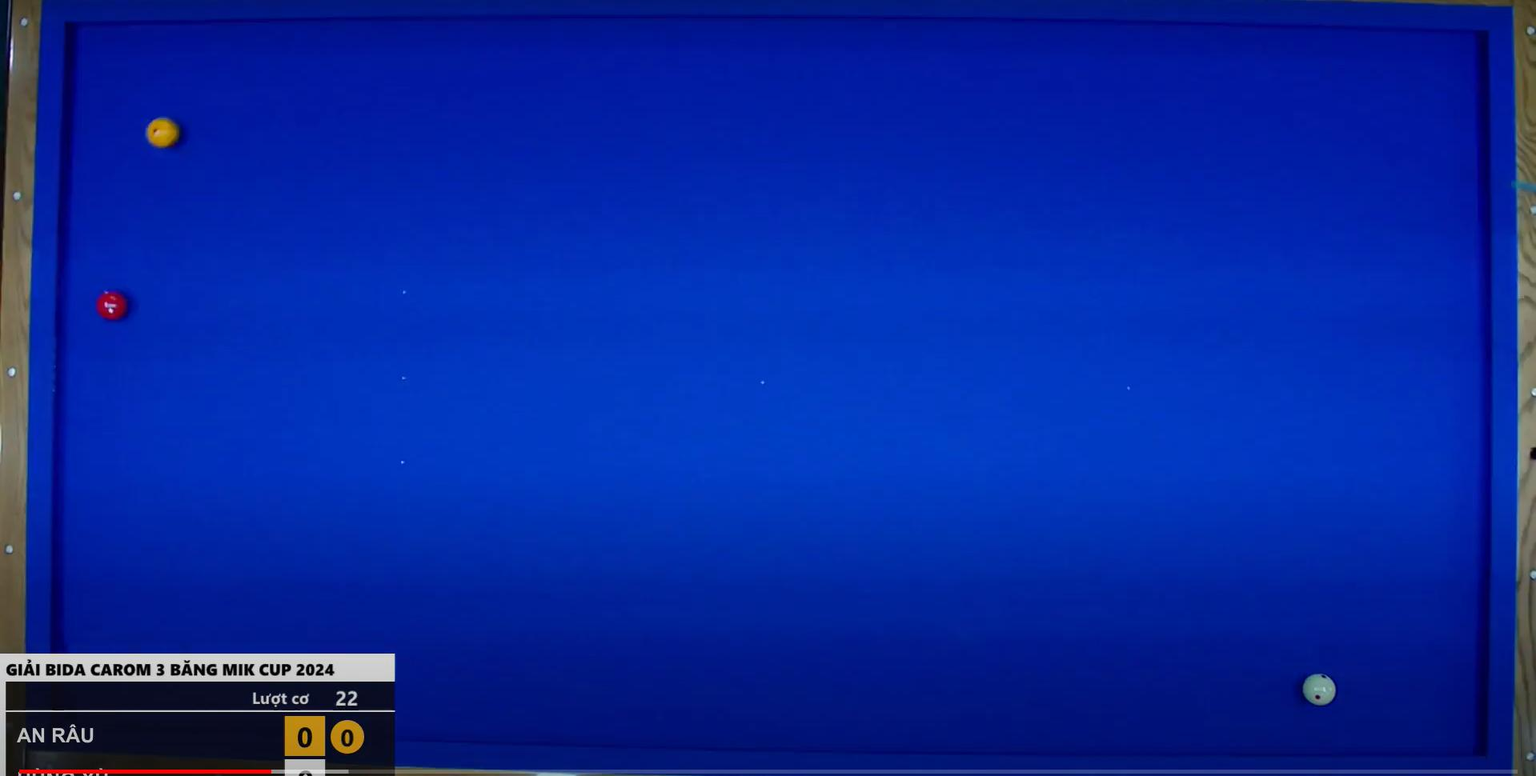red ball: (91, 283, 138, 332)
white ball: (1295, 662, 1346, 711)
yellow ball: (137, 108, 188, 164)
